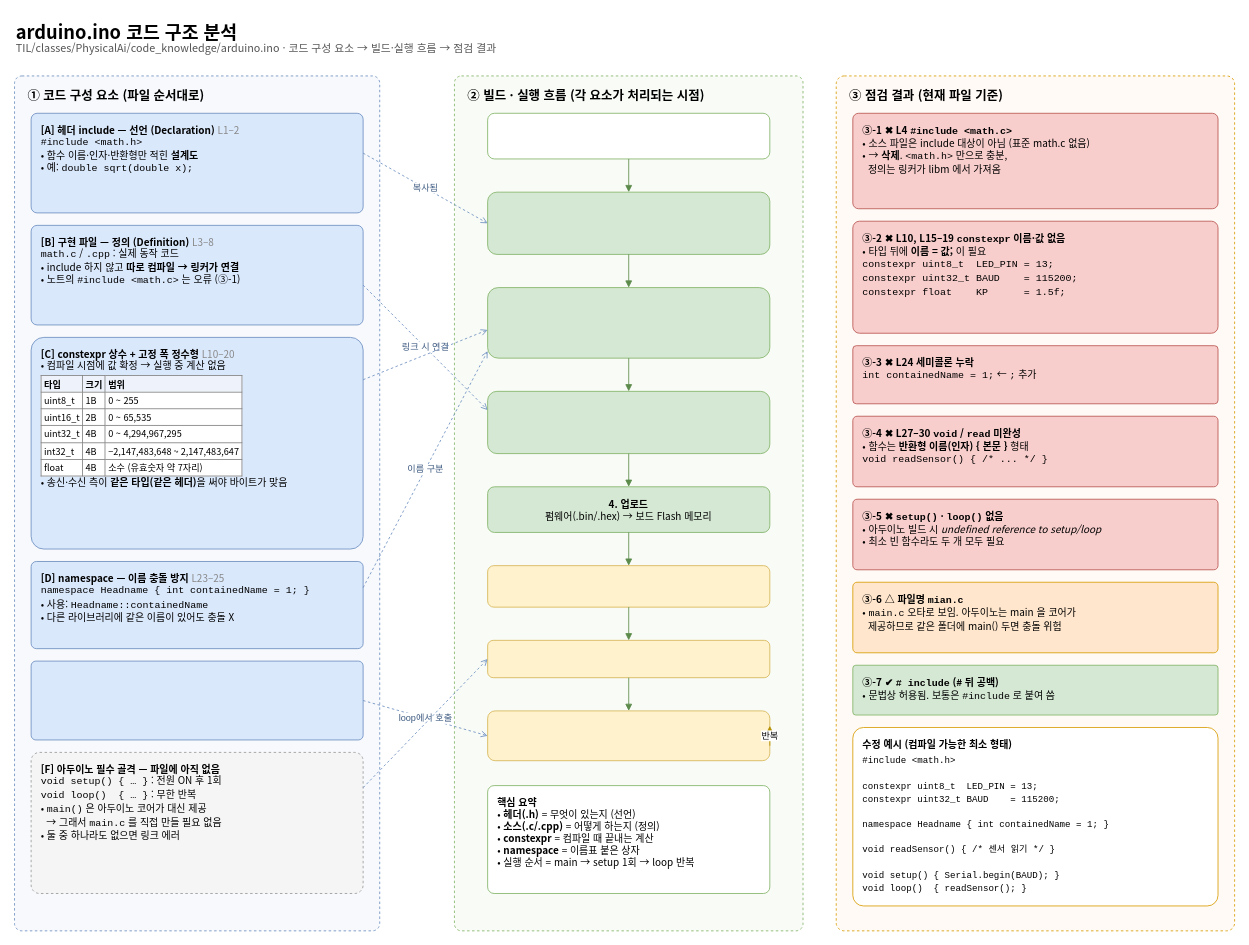
Some shapes in this 1249 by 945 pixel diagram are drawn without their labels. The centre of each missing label's shape, as x and y in pixels:
1. 전처리기 (Preprocessor) #include 위치에 헤더 내용을 그대로 복사 → 선언(설계도)이 코드 안으로 들어옴: the point at 628,222
2. 컴파일러 (Compiler) 문법 검사 · constexpr 값 미리 계산 타입 크기 확정 · 기계어 .o 생성: the point at 628,322
3. 링커 (Linker) 선언 ↔ 정의 연결 (math 라이브러리, 아두이노 코어의 main · setup · loop): the point at 628,422
5. 실행: main() (코어 제공) init() 하드웨어 초기화: the point at 628,586
[E] 함수 — void (반환값 없음) L27–30 void read… (작성 중) • 예: void readSensor() { … }: the point at 196,700
loop() — 무한 반복 센서 읽기(read…) · 계산 · 출력: the point at 628,735
setup() — 1회 실행: the point at 628,659
소스 파일 arduino.ino (+ 같은 폴더의 .ino/.cpp): the point at 628,135
